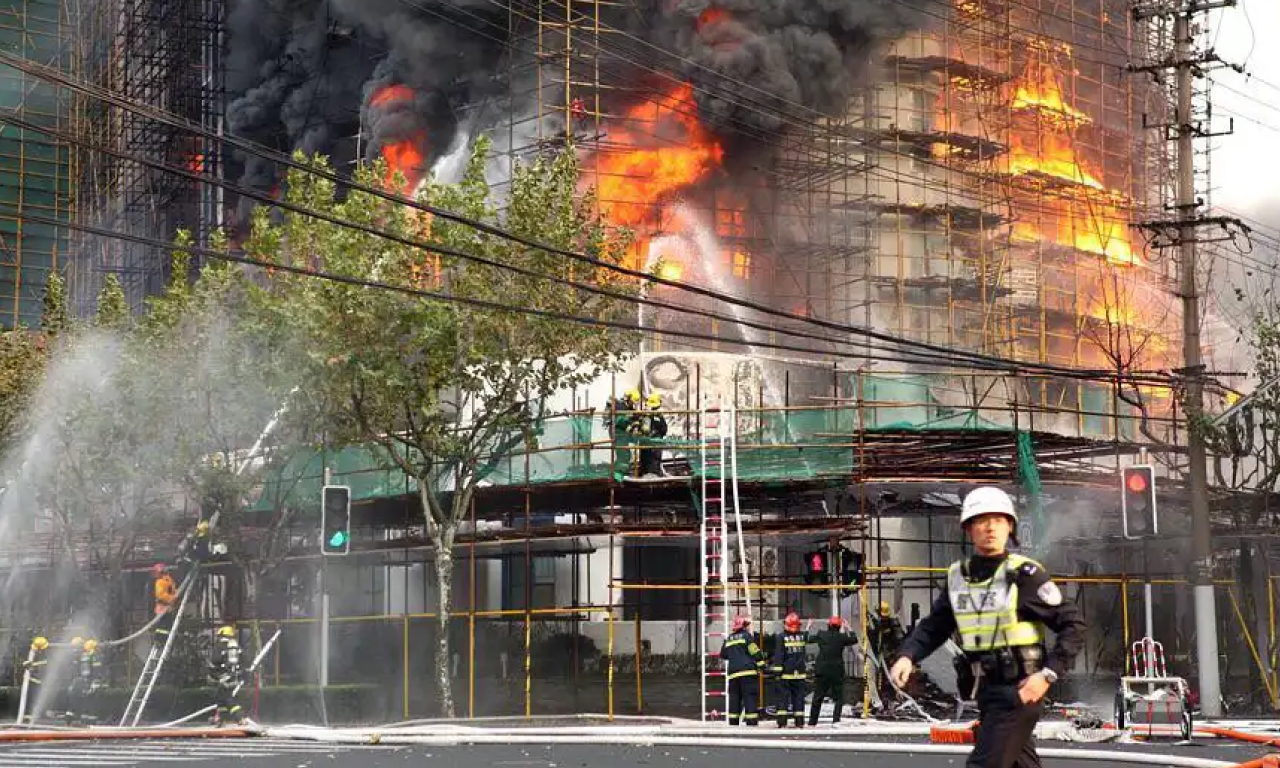fire: (157, 12, 1242, 412)
